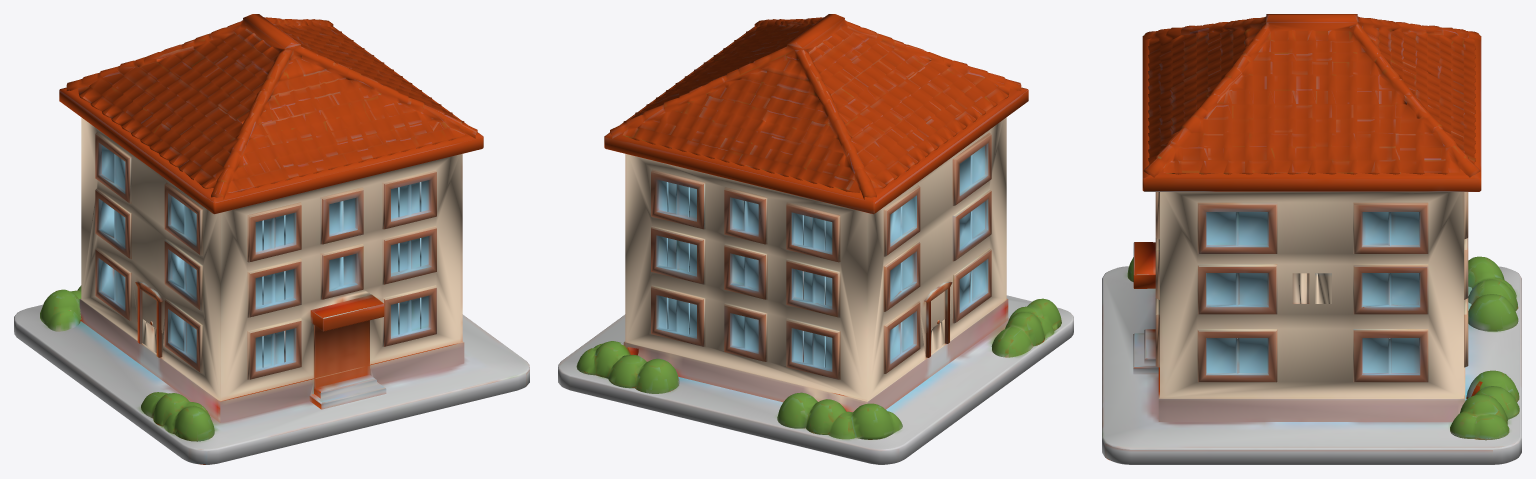
The model's file is gedung_1.glb.
The picture shows the model from 3 angles, left to right: view 1: azimuth 30°, elevation 25°; view 2: azimuth 150°, elevation 25°; view 3: azimuth 270°, elevation 25°; orthographic projection. The views are drawn at different scales.
Parts seen in each view (by area): view 1: tripo_node_4c26c99e; view 2: tripo_node_4c26c99e; view 3: tripo_node_4c26c99e.
Part boxes in pixels (<box>): tripo_node_4c26c99e: <box>14,14,529,464</box>; tripo_node_4c26c99e: <box>558,14,1073,464</box>; tripo_node_4c26c99e: <box>1102,14,1521,464</box>.
Bounding box in the file's own units: 1 × 0.9123 × 0.9671.
Materials: 1 (1 with a texture image).
